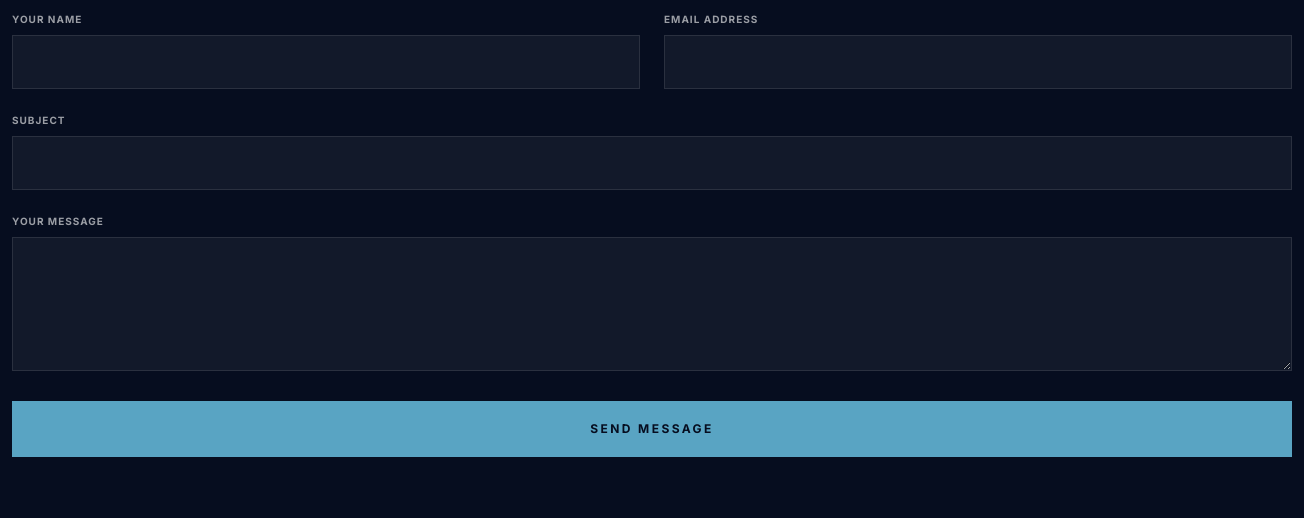
Scenario: ContactForm › asks for the verification when the Turnstile token is missing
Type "Jane Doe" into the field labelled "Your Name" at (326, 62), box [12, 35, 640, 89]
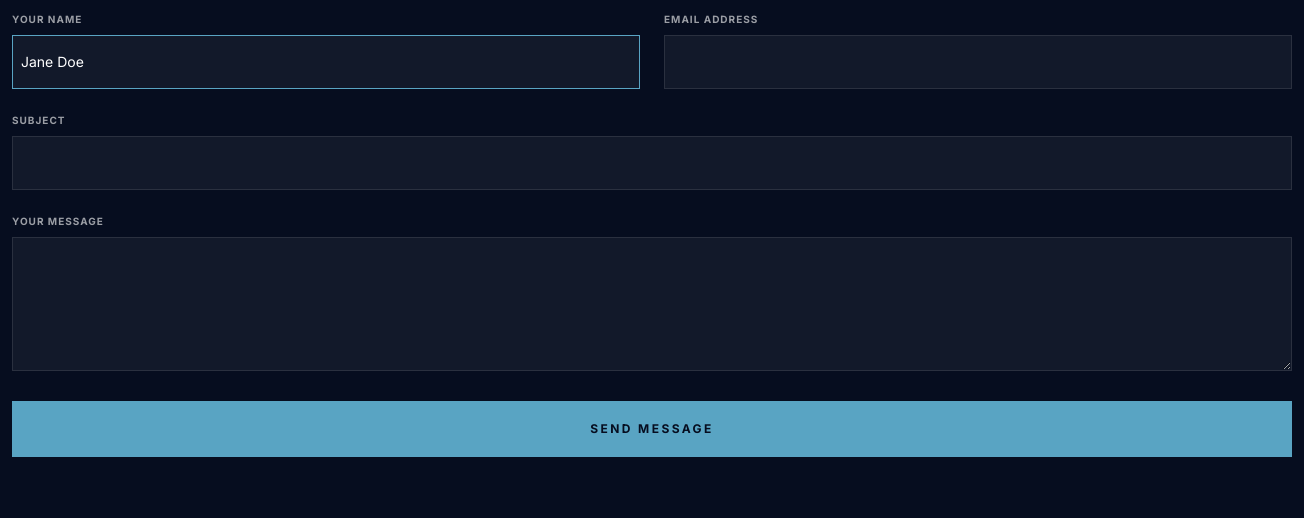
Type "jane@example.com" into the field labelled "Email Address" at (978, 62), box [664, 35, 1292, 89]
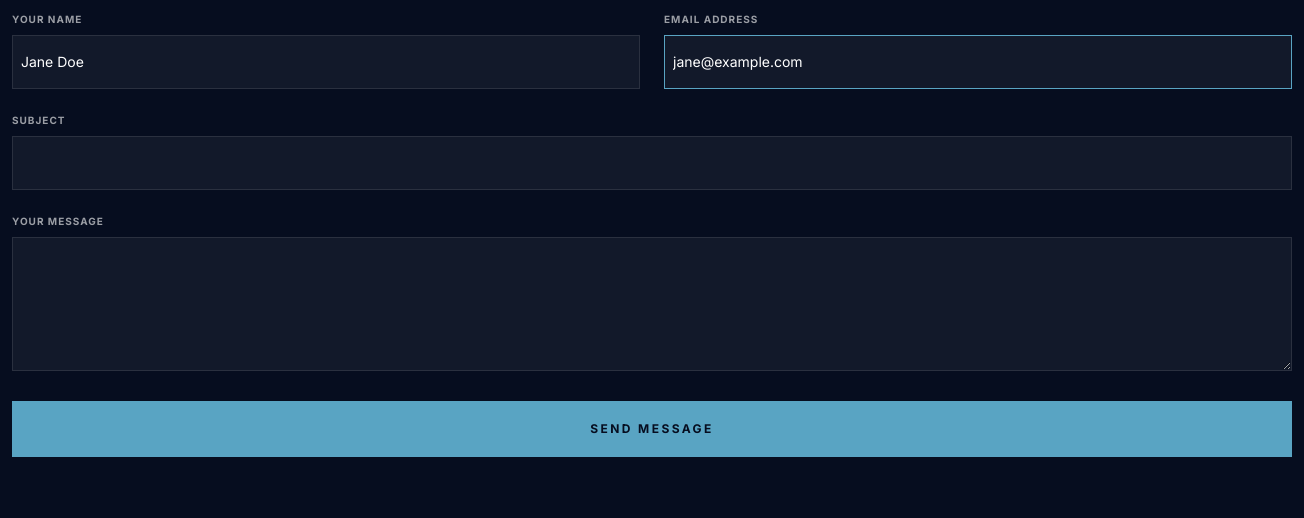
Type "Booking" into the field labelled "Subject" at (652, 163), box [12, 136, 1292, 190]
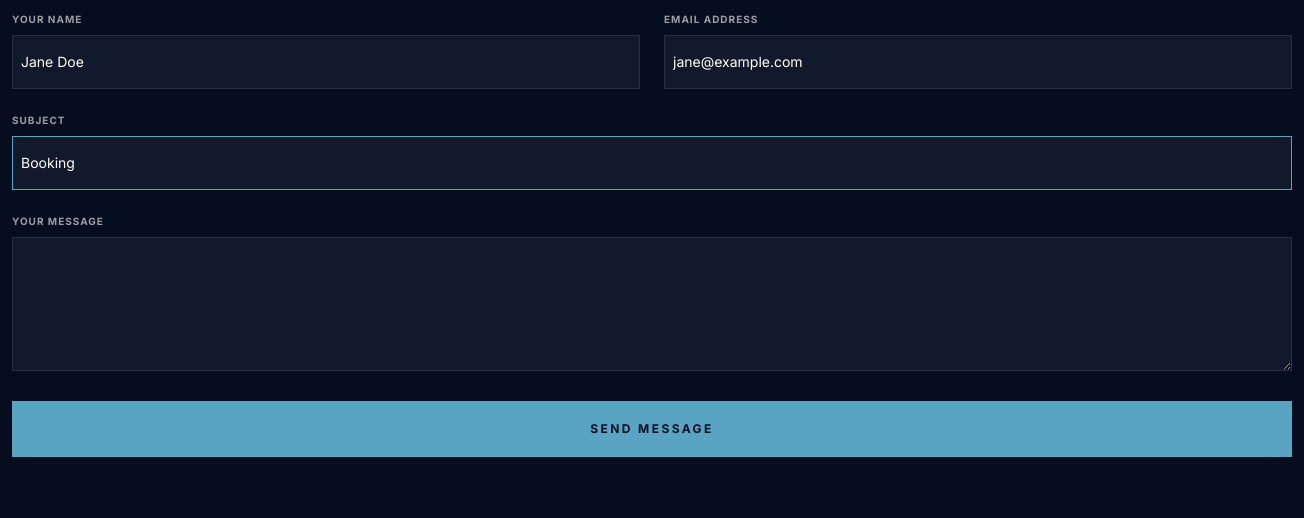
Type "Do you have rooms?" into the text box labelled "Your Message" at (652, 304), box [12, 237, 1292, 371]
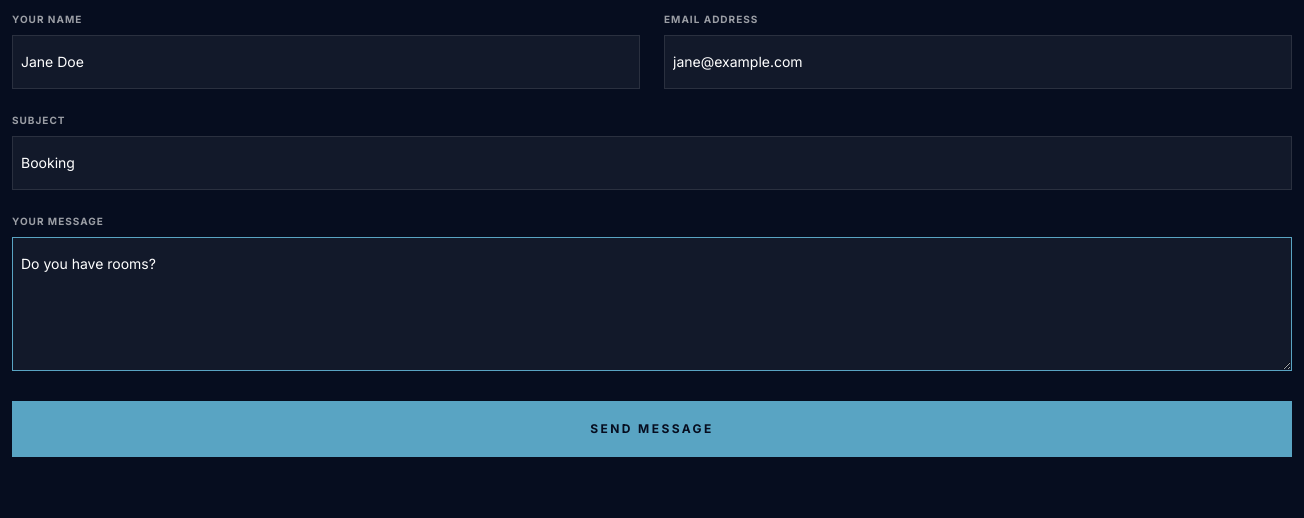
Click the button "Send Message" at (652, 429), box [12, 401, 1292, 457]
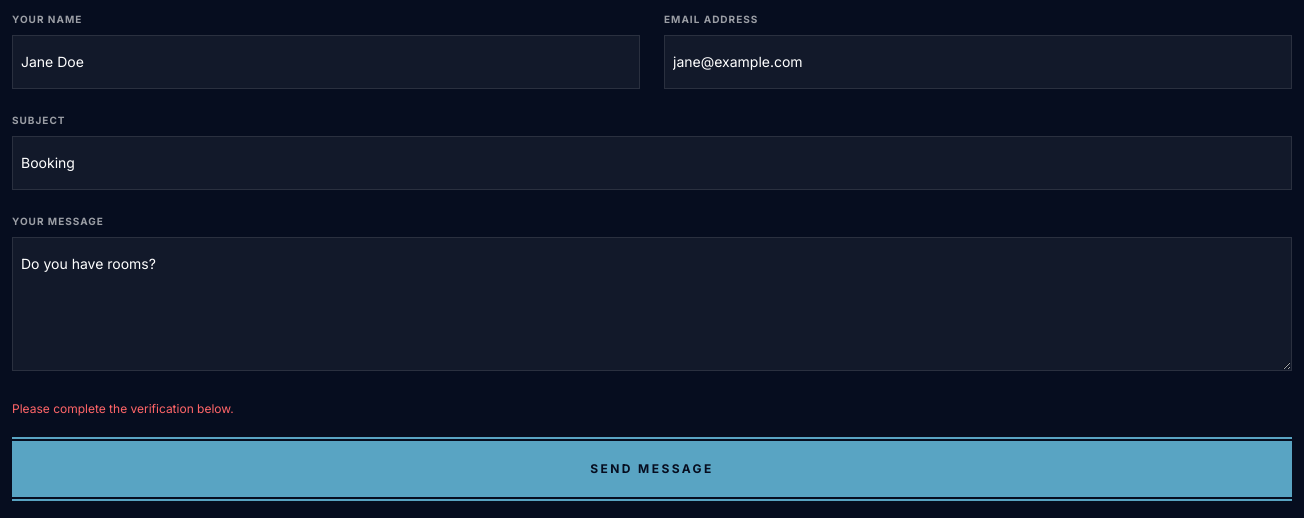
Check: the text "Please complete the verification below." is shown, box [12, 401, 234, 416]
